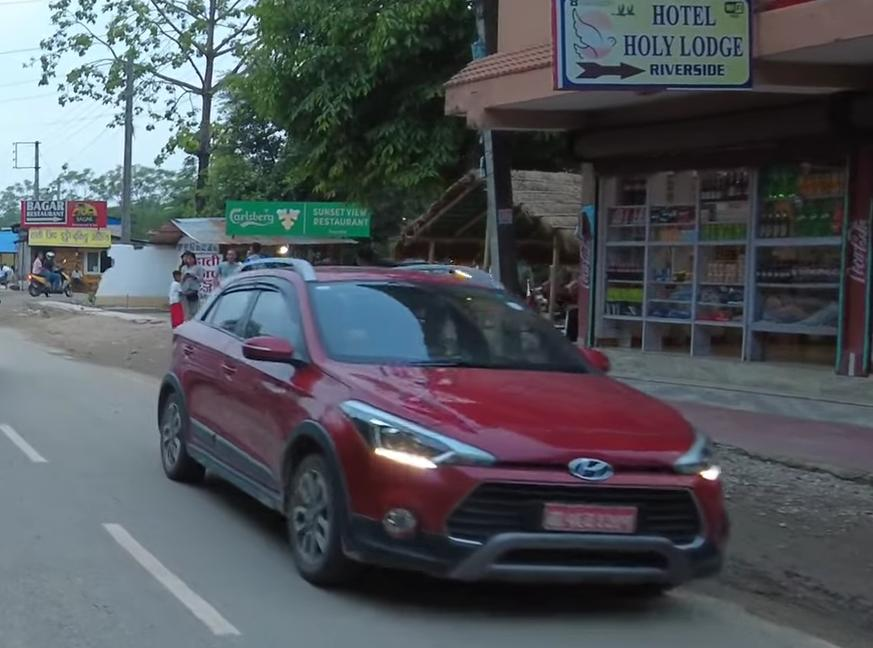car: (157, 248, 738, 612)
scooter: (25, 262, 76, 302)
